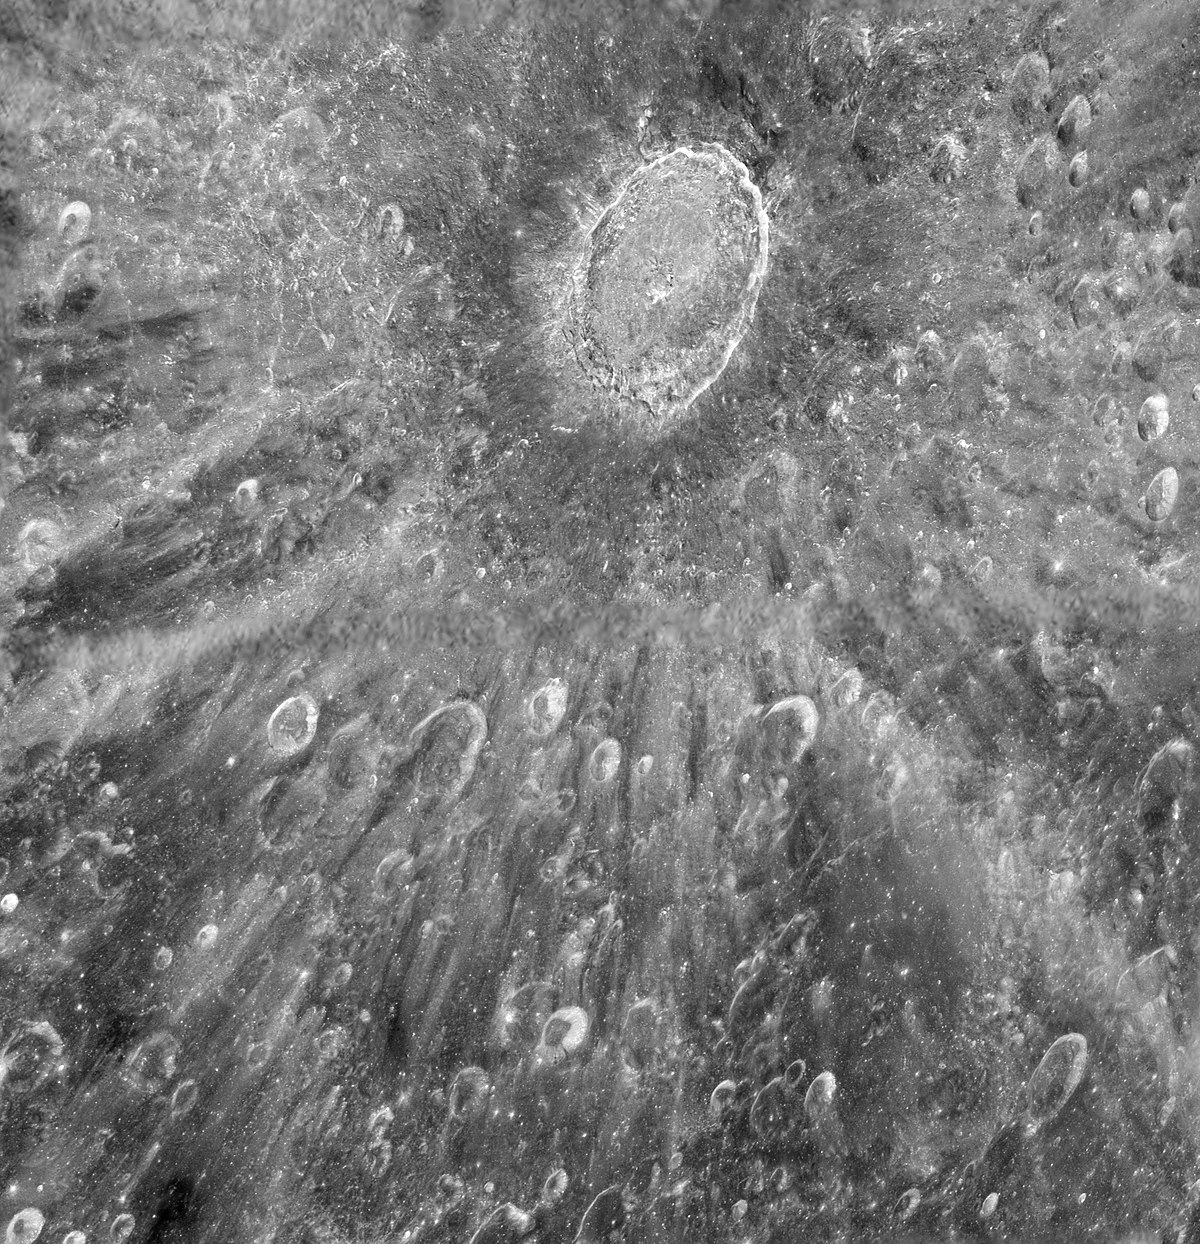crater: (442, 59, 857, 555), (231, 685, 329, 759), (524, 992, 610, 1075), (1119, 373, 1184, 461), (1130, 460, 1194, 533), (124, 942, 188, 984), (186, 912, 234, 961)
